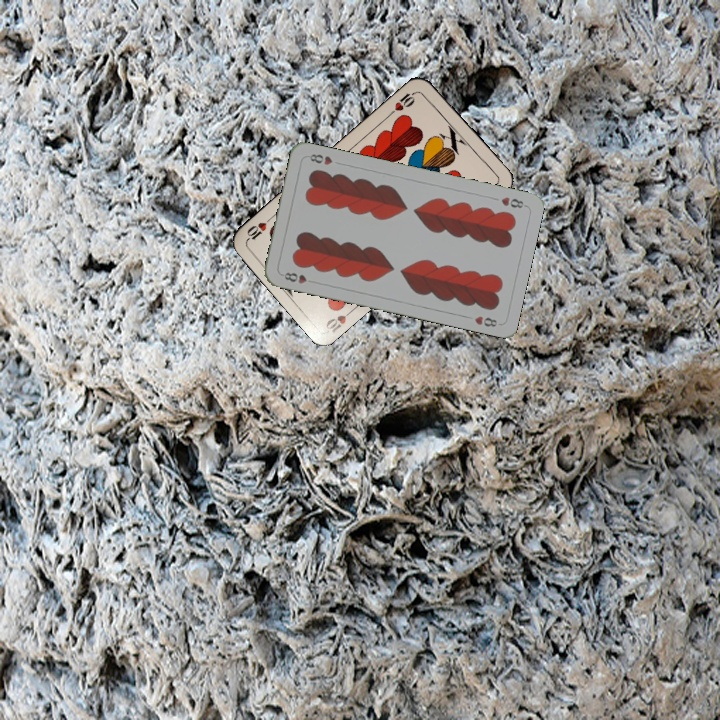H10: (321, 304, 358, 336), (386, 87, 420, 118)
H8: (497, 193, 528, 211), (280, 268, 310, 286)
